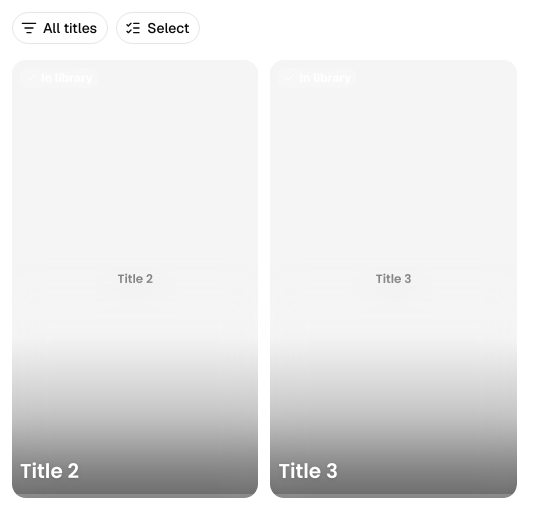
chips are derived from the titles on the page › offers the status submenu once two statuses are present
What coordinates should you click on to do the following:
click the button with aria-label "Filters:"
I would click on:
 (60, 28)
Its box is [12,12,108,44].
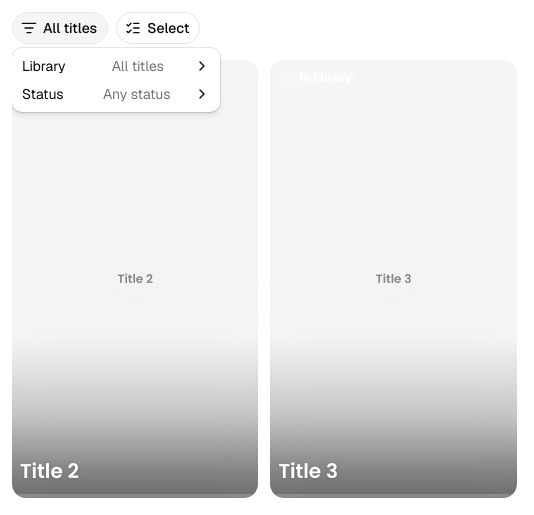
Expected: the menu item "Status Any status" is shown, [16,80,216,108]
